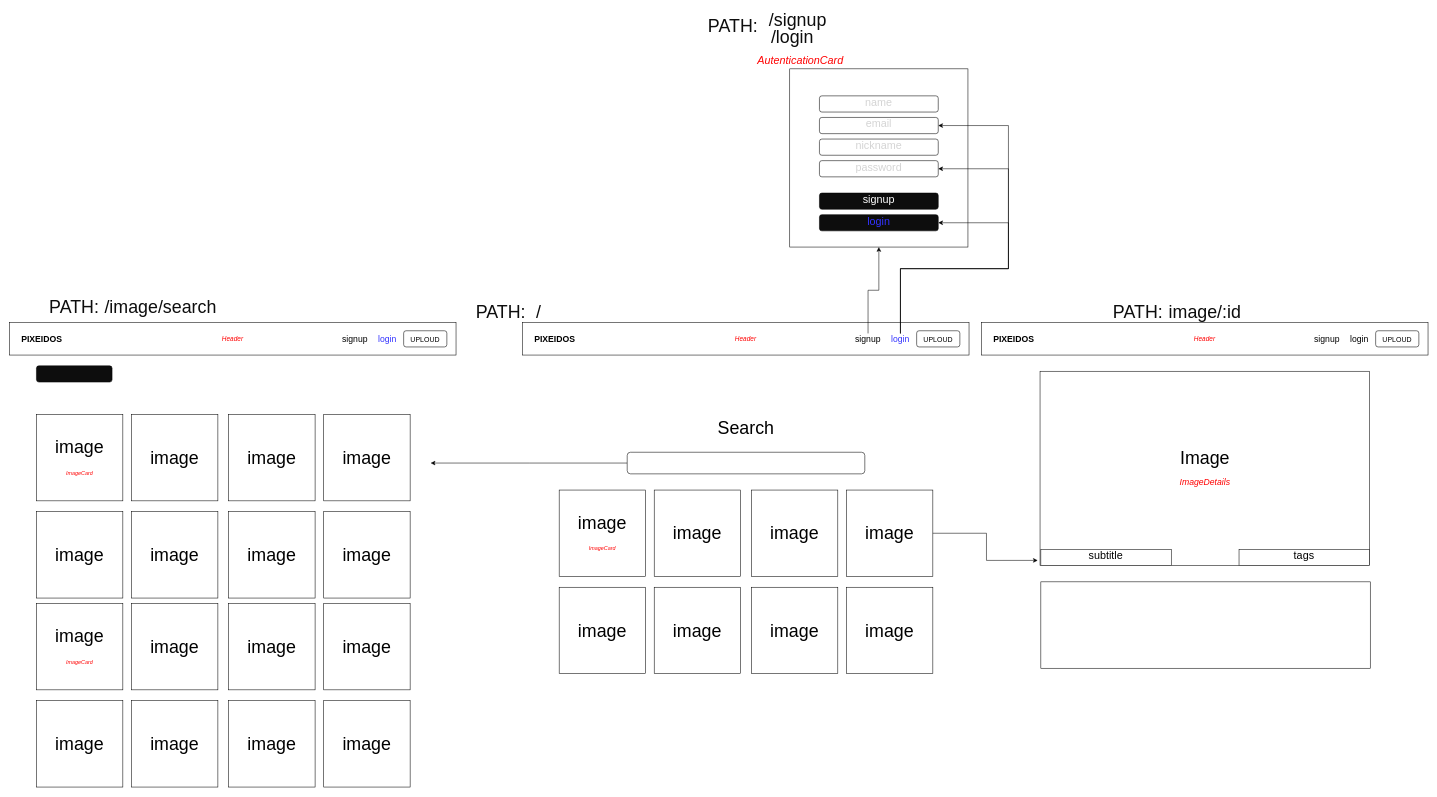
The diagram is 1437 pixels wide and 797 high, and some of its shapes have lost their labels. Each missing label, with the centre of its shape:
"author: date: collection:" belongs at [1205,624].
"Category" belongs at [74,373].
"SearchInput" belongs at [746,463].
